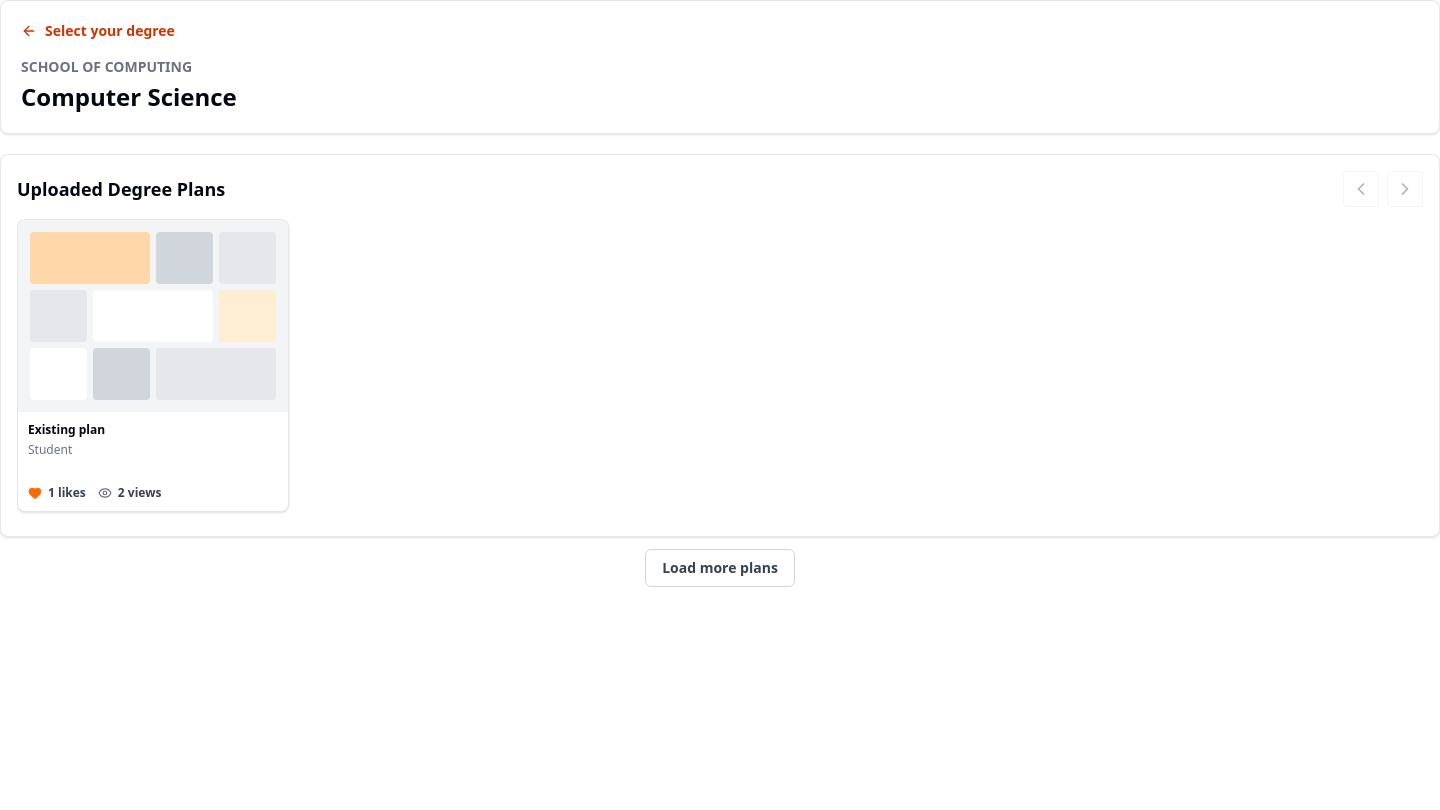
Scenario: PopularChoicesDegreePage › appends lightweight paginated plans without duplicates
Expected: the heading "Existing plan" is shown, [28,421,105,438]
Click the button "Load more plans": (720,568) [645,549,795,587]
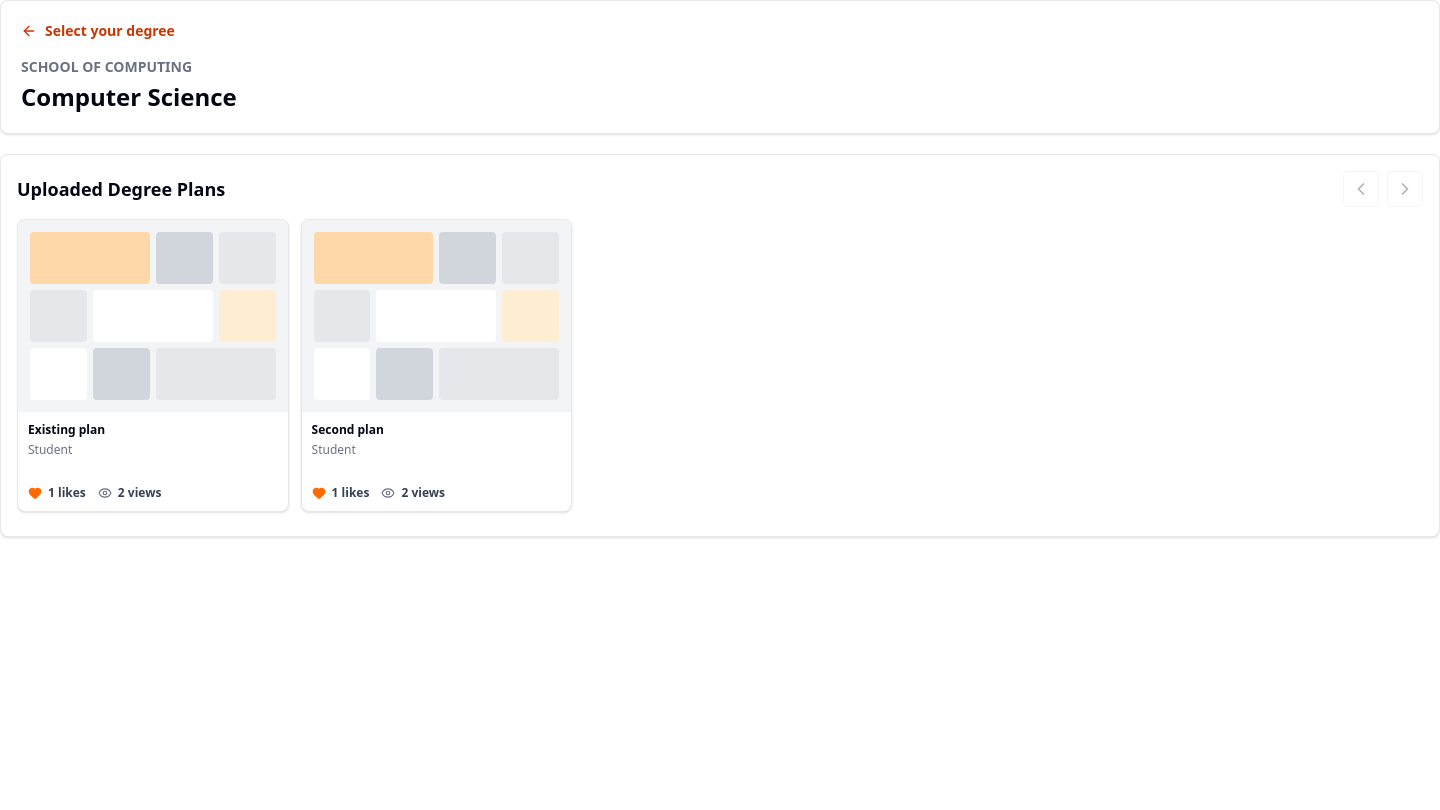
Expected: the number of headings "Existing plan" is 1, [28,421,105,438]
Expected: the heading "Second plan" is shown, [312,421,384,438]
Expected: the button "Load more plans" is gone
